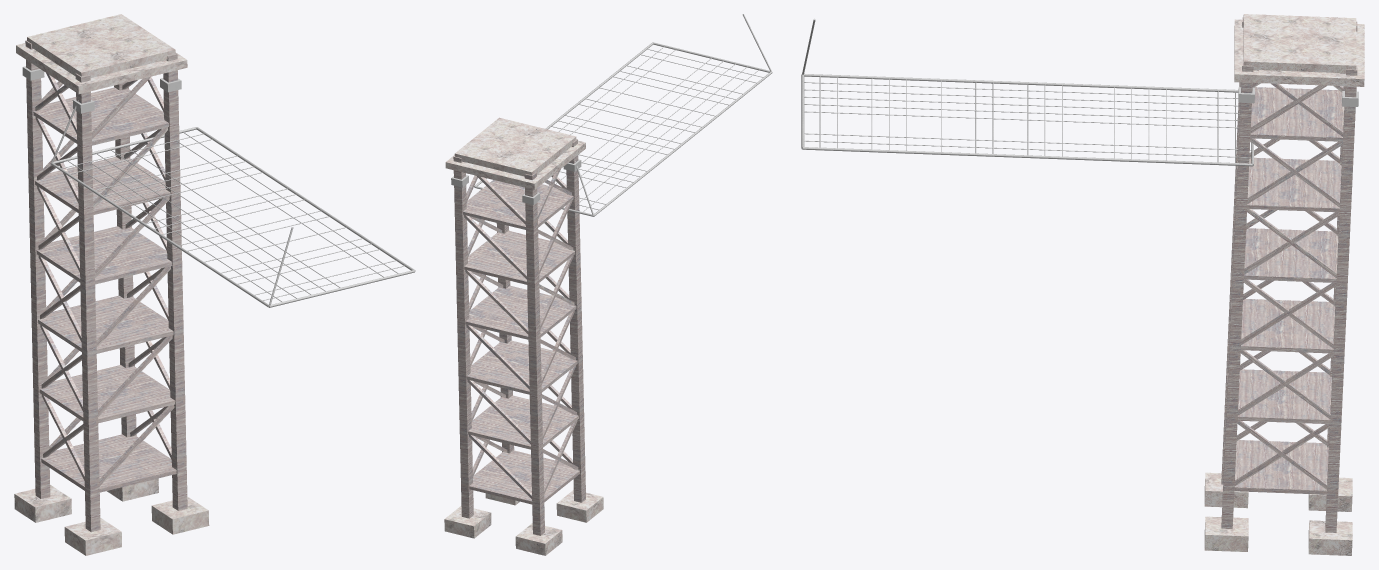
File: HighwireHorizon_08.obj
3 renders of one model, left to right at view 1: azimuth 30°, elevation 25°; view 2: azimuth 150°, elevation 25°; view 3: azimuth 270°, elevation 25°, orthographic. The views are drawn at different scales.
Visible parts, largest first — view 1: Box0059, Box0118, Box00210, Box0208, Box0148, Box0168, Box0138, Box0158, Box0188, Box0178, Box0198, Box00115 (+16 smaller); view 2: Box00210, Box0208, Box0089, Box0059, Box0178, Box0148, Box0158, Box0168, Box0138, Box0188, Box0198, Box0079 (+8 smaller); view 3: Box0208, Box0089, Box0118, Box0158, Box0138, Box0168, Box0148, Box0178, Box0188, Box0198, Segment0401, Segment0391 (+5 smaller).
Part boxes in pixels (x1=…): Box0059: x1=75, y1=73, x2=100, y2=531; Box0118: x1=163, y1=53, x2=187, y2=510; Box00210: x1=25, y1=40, x2=50, y2=498; Box0208: x1=27, y1=14, x2=175, y2=77; Box0148: x1=39, y1=365, x2=175, y2=423; Box0168: x1=36, y1=226, x2=172, y2=284; Box0138: x1=41, y1=434, x2=176, y2=492; Box0158: x1=38, y1=295, x2=173, y2=353; Box0188: x1=33, y1=87, x2=168, y2=145; Box0178: x1=35, y1=157, x2=170, y2=214; Box0198: x1=16, y1=43, x2=187, y2=93; Box00115: x1=14, y1=485, x2=71, y2=522; Box00210: x1=524, y1=172, x2=544, y2=535; Box0208: x1=454, y1=117, x2=576, y2=176; Box0089: x1=453, y1=156, x2=473, y2=518; Box0059: x1=566, y1=139, x2=585, y2=502; Box0178: x1=464, y1=230, x2=574, y2=284; Box0148: x1=468, y1=395, x2=578, y2=449; Box0158: x1=466, y1=340, x2=577, y2=394; Box0168: x1=465, y1=285, x2=576, y2=339; Box0138: x1=469, y1=450, x2=579, y2=504; Box0188: x1=463, y1=180, x2=573, y2=229; Box0198: x1=445, y1=140, x2=585, y2=189; Box0079: x1=444, y1=506, x2=491, y2=538; Box0208: x1=1243, y1=14, x2=1356, y2=73; Box0089: x1=1325, y1=65, x2=1357, y2=532; Box0118: x1=1221, y1=61, x2=1253, y2=528; Box0158: x1=1230, y1=298, x2=1335, y2=353; Box0138: x1=1224, y1=440, x2=1328, y2=494; Box0168: x1=1234, y1=228, x2=1338, y2=282; Box0148: x1=1227, y1=369, x2=1331, y2=423; Box0178: x1=1237, y1=157, x2=1341, y2=212; Box0188: x1=1250, y1=87, x2=1344, y2=141; Box0198: x1=1234, y1=19, x2=1364, y2=86; Segment0401: x1=802, y1=147, x2=1252, y2=166; Segment0391: x1=804, y1=73, x2=1238, y2=92.
Bounding box in the file's own units: 20.32 × 62.06 × 65.03.
Materials: 5 (5 with a texture image).
